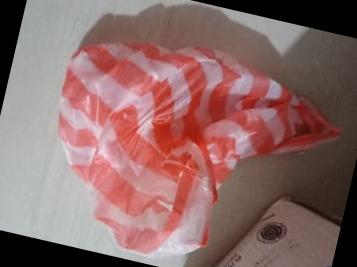Plastik: (57, 42, 338, 253)
